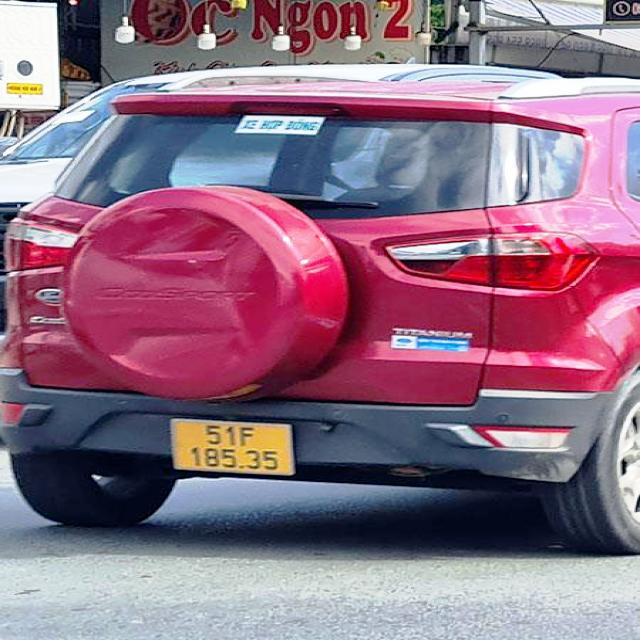license_plate: (173, 421, 297, 475)
